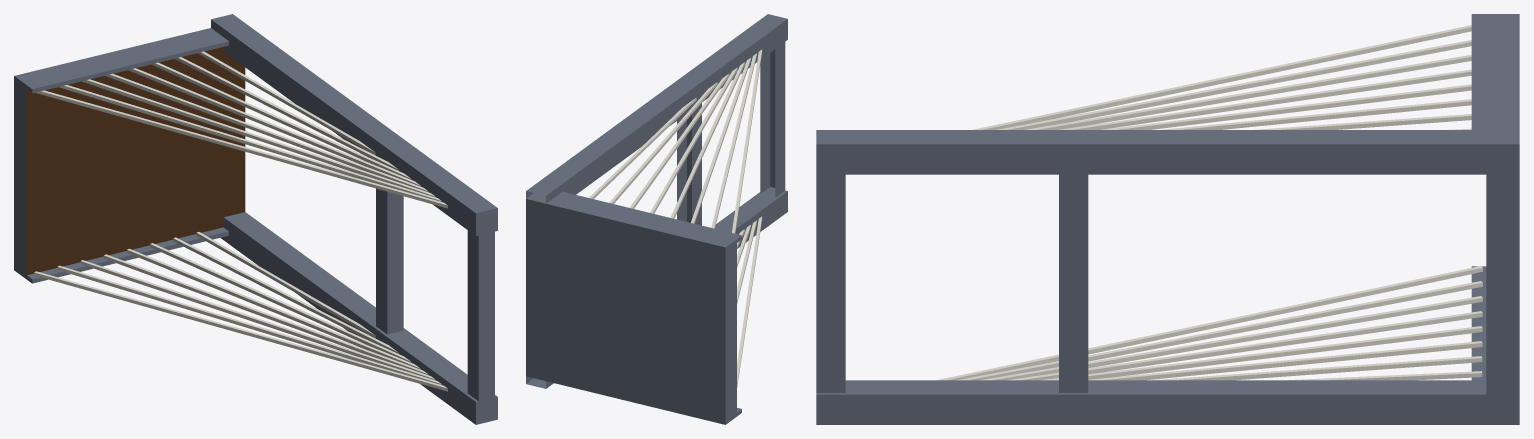
Rendered from north.glb.
The picture shows the model from 3 angles, left to right: view 1: azimuth 30°, elevation 25°; view 2: azimuth 150°, elevation 25°; view 3: azimuth 270°, elevation 25°; orthographic projection. The views are drawn at different scales.
Parts seen in each view (by area): view 1: bridge_03_north; view 2: bridge_03_north; view 3: bridge_03_north.
Boxes of the visible parts, bbox=[...] form: bridge_03_north: bbox=[14, 14, 497, 424]; bridge_03_north: bbox=[526, 14, 787, 424]; bridge_03_north: bbox=[816, 14, 1519, 424].
Bounding box in the file's own units: 16 × 14.8 × 33.6.
